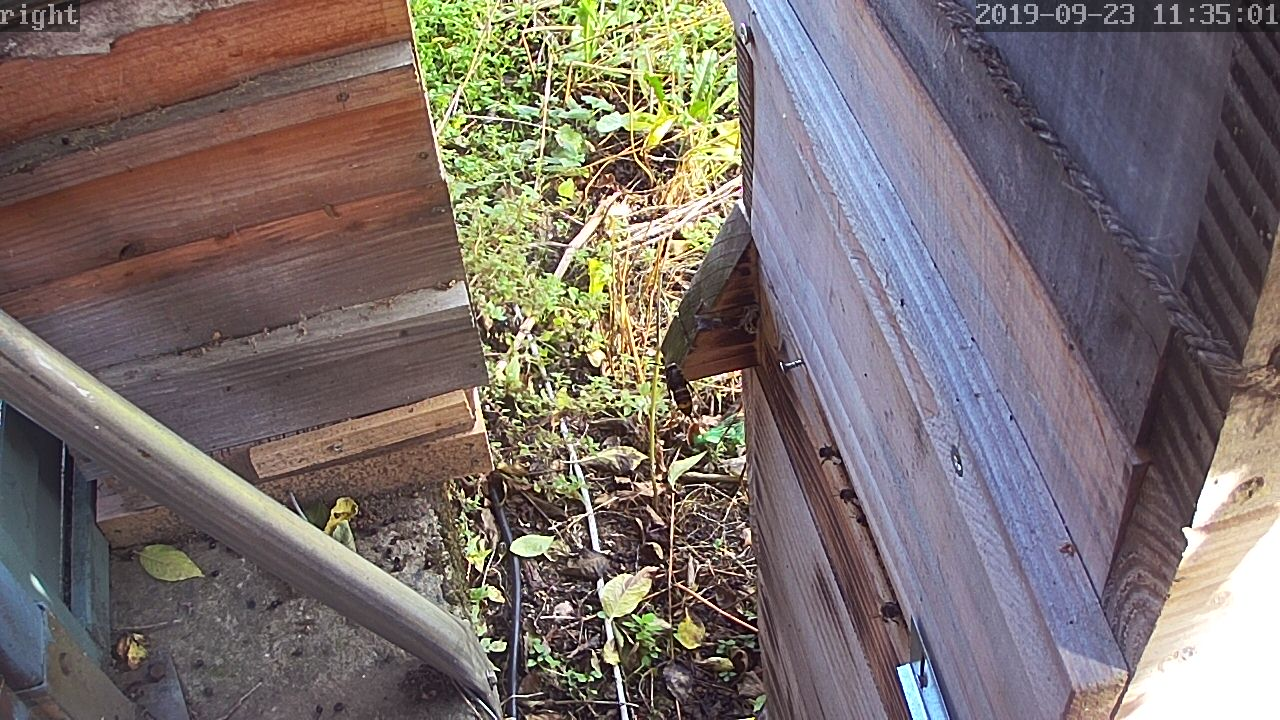bee: (835, 487, 869, 527), (869, 593, 906, 627), (813, 440, 847, 471)
hornet: (656, 360, 703, 424)
